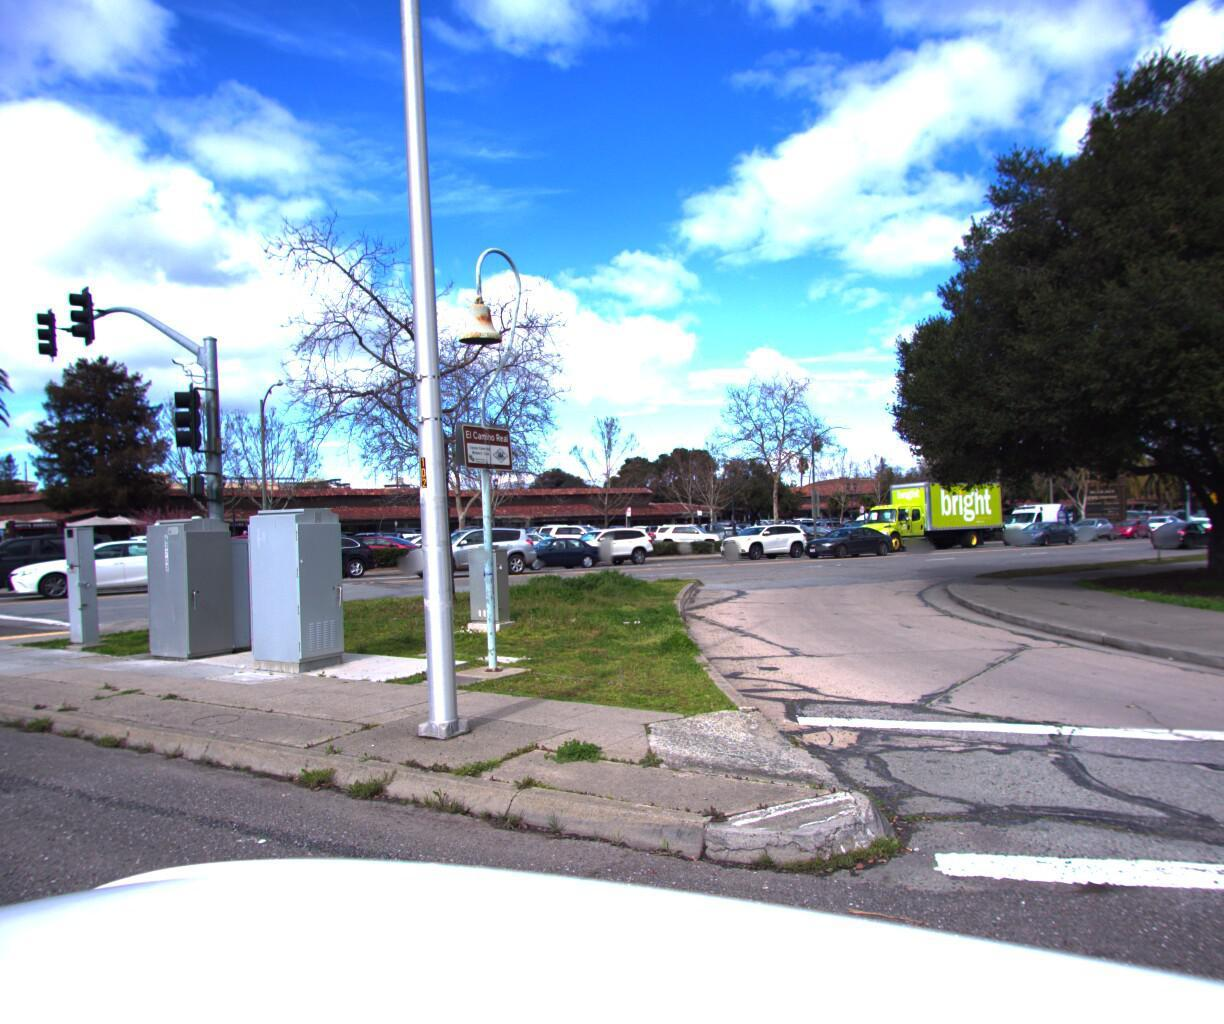car: (1, 536, 213, 604), (0, 530, 131, 605), (392, 526, 538, 583), (242, 537, 378, 586), (498, 531, 619, 571), (549, 524, 656, 568), (126, 528, 231, 567), (712, 522, 813, 561), (797, 523, 899, 560), (339, 529, 439, 564), (403, 530, 500, 563), (499, 528, 589, 560), (534, 520, 625, 551), (994, 500, 1070, 534), (652, 521, 731, 548), (1145, 520, 1216, 550), (1006, 519, 1077, 547), (763, 522, 836, 547), (1100, 516, 1158, 544), (1133, 513, 1187, 539), (1059, 516, 1115, 540), (1208, 519, 1224, 548)
truck: (841, 484, 1011, 560)
